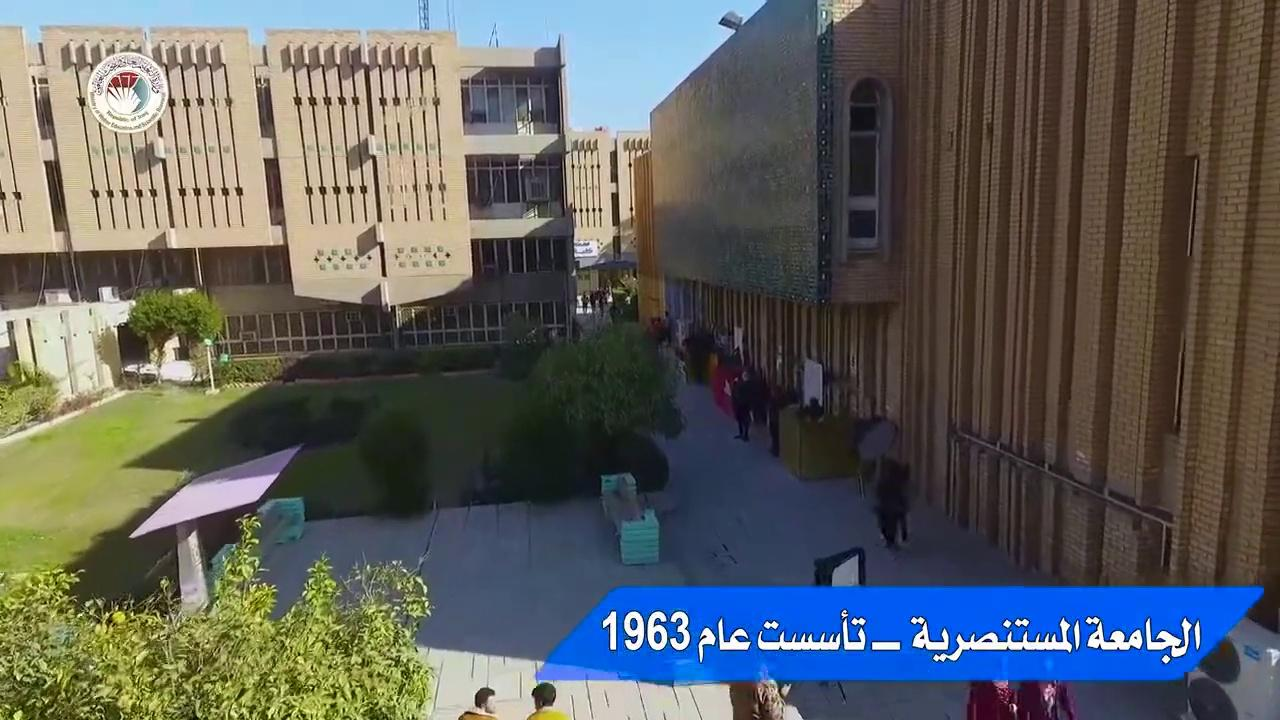person: (1183, 636, 1241, 719), (965, 678, 1076, 719), (874, 457, 910, 548), (728, 676, 787, 719), (526, 681, 571, 719), (458, 686, 499, 719)
tree: (0, 512, 436, 720), (526, 315, 686, 495), (125, 285, 224, 383), (488, 401, 579, 503), (356, 405, 432, 516), (173, 287, 225, 384), (0, 358, 61, 432), (126, 287, 181, 365), (491, 309, 547, 380)
